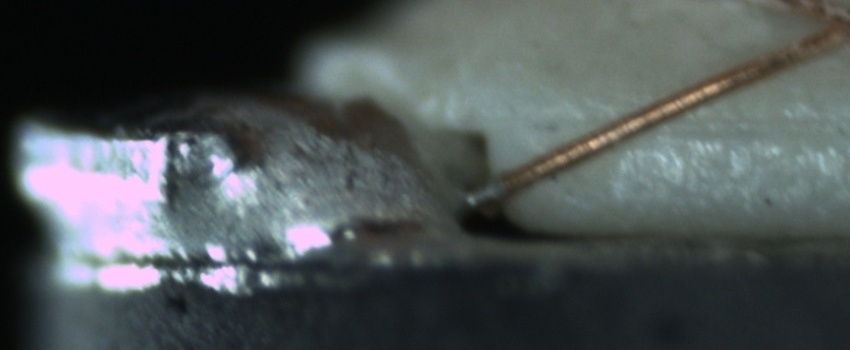CL: (793, 4, 850, 57)
DL: (565, 88, 844, 162)
TS: (462, 174, 504, 207)
